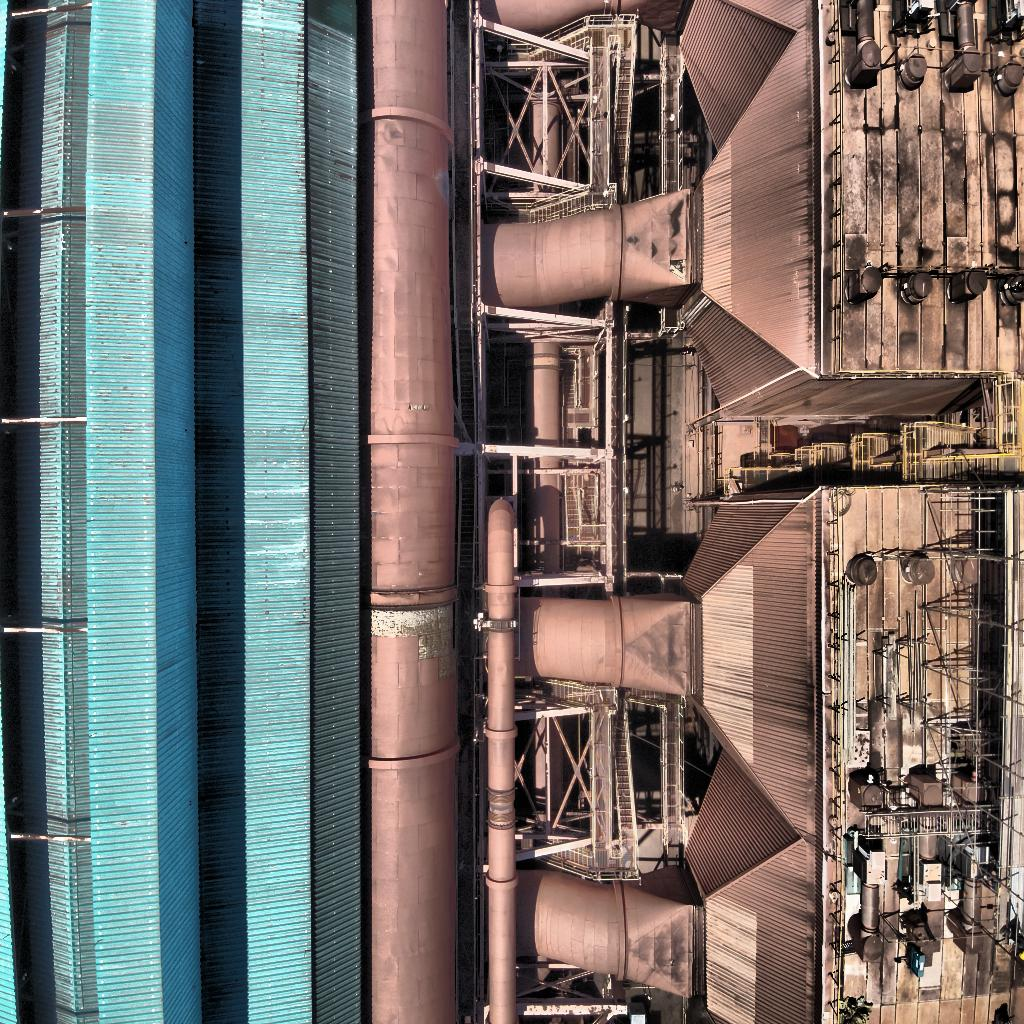Failures: (365, 604, 455, 637), (418, 637, 458, 662), (669, 258, 688, 286), (437, 662, 458, 685), (408, 402, 430, 413)
